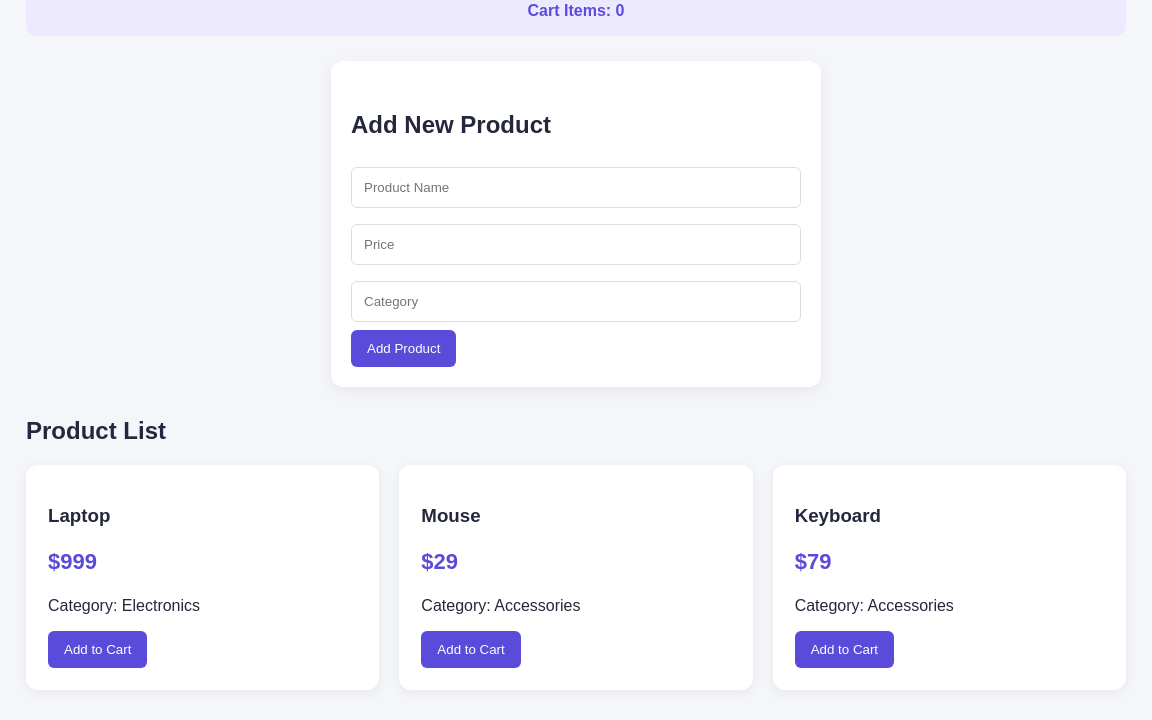
Scenario: adds a selected product to the cart
The width and height of the screenshot is (1152, 720).
(page scrolled)
Click the button "Add to Cart" below "Electronics": click(98, 650) [48,631,147,668]
(page scrolled)
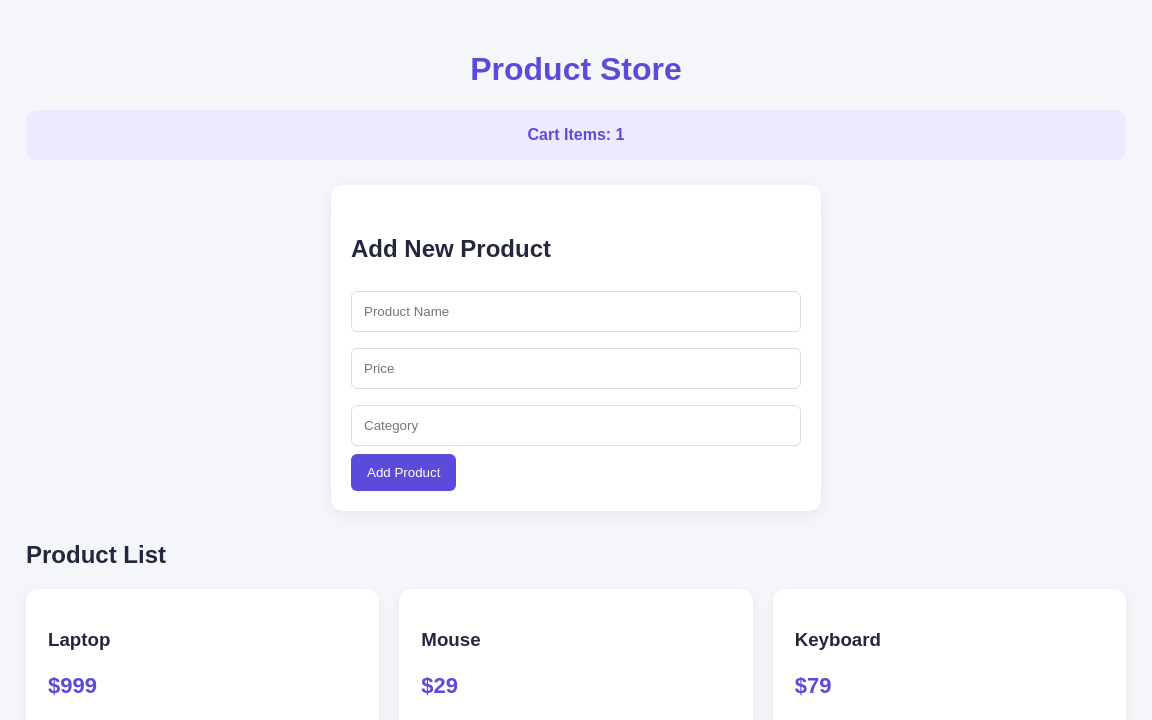
Expected: the text "Cart Items: 1" is shown, [26,110,1126,160]
